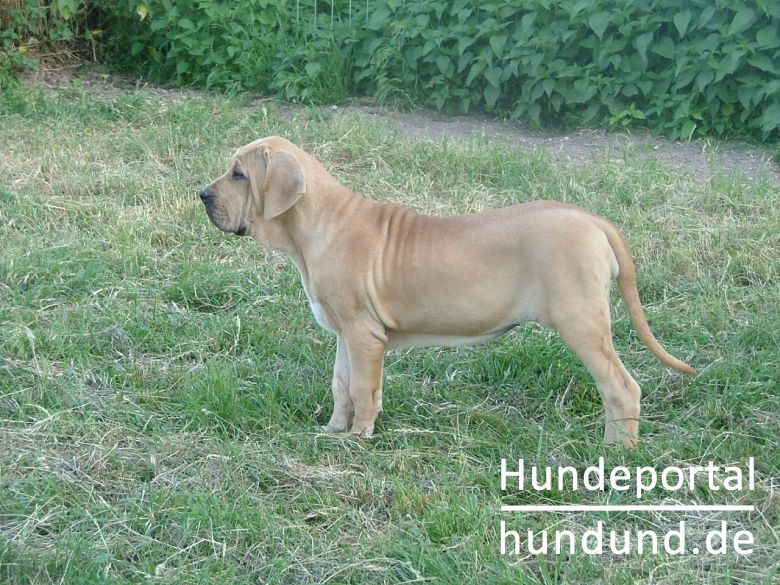fila_brasileiro: (197, 135, 697, 448)
